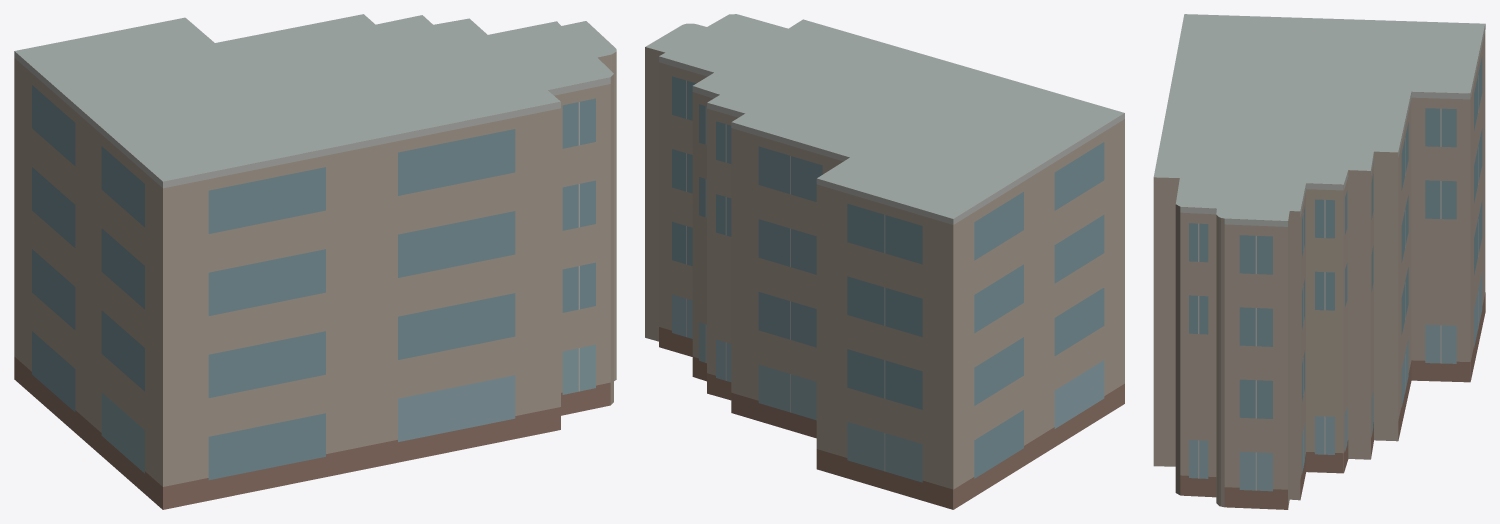
Rendered from survey-upis-32866295.glb.
The picture shows the model from 3 angles, left to right: view 1: azimuth 30°, elevation 25°; view 2: azimuth 150°, elevation 25°; view 3: azimuth 270°, elevation 25°; orthographic projection. The views are drawn at different scales.
Parts seen in each view (by area): view 1: survey-upis-32866295.tmp; view 2: survey-upis-32866295.tmp; view 3: survey-upis-32866295.tmp.
Boxes of the visible parts, x1,y1,x2,y2 form: survey-upis-32866295.tmp: [14, 14, 616, 509]; survey-upis-32866295.tmp: [645, 14, 1124, 509]; survey-upis-32866295.tmp: [1153, 14, 1485, 509].
Bounding box in the file's own units: 18.34 × 11.92 × 12.42.
